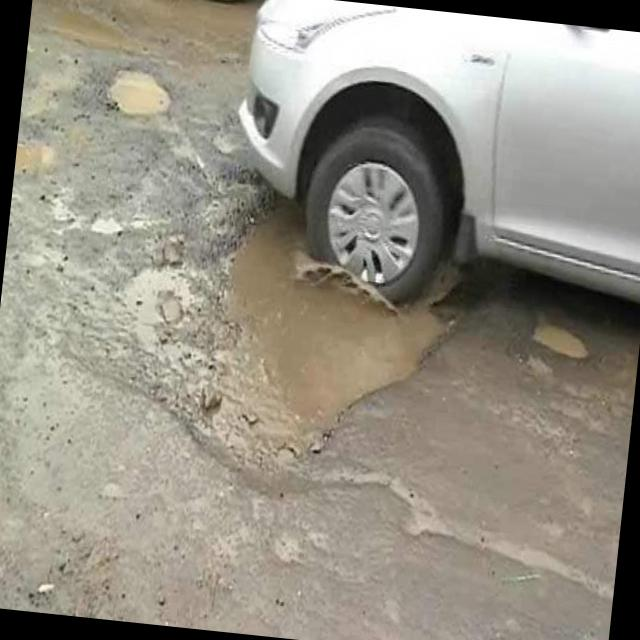Potholes: (93, 115, 496, 552), (490, 268, 604, 390), (92, 54, 197, 140), (13, 118, 67, 186)
